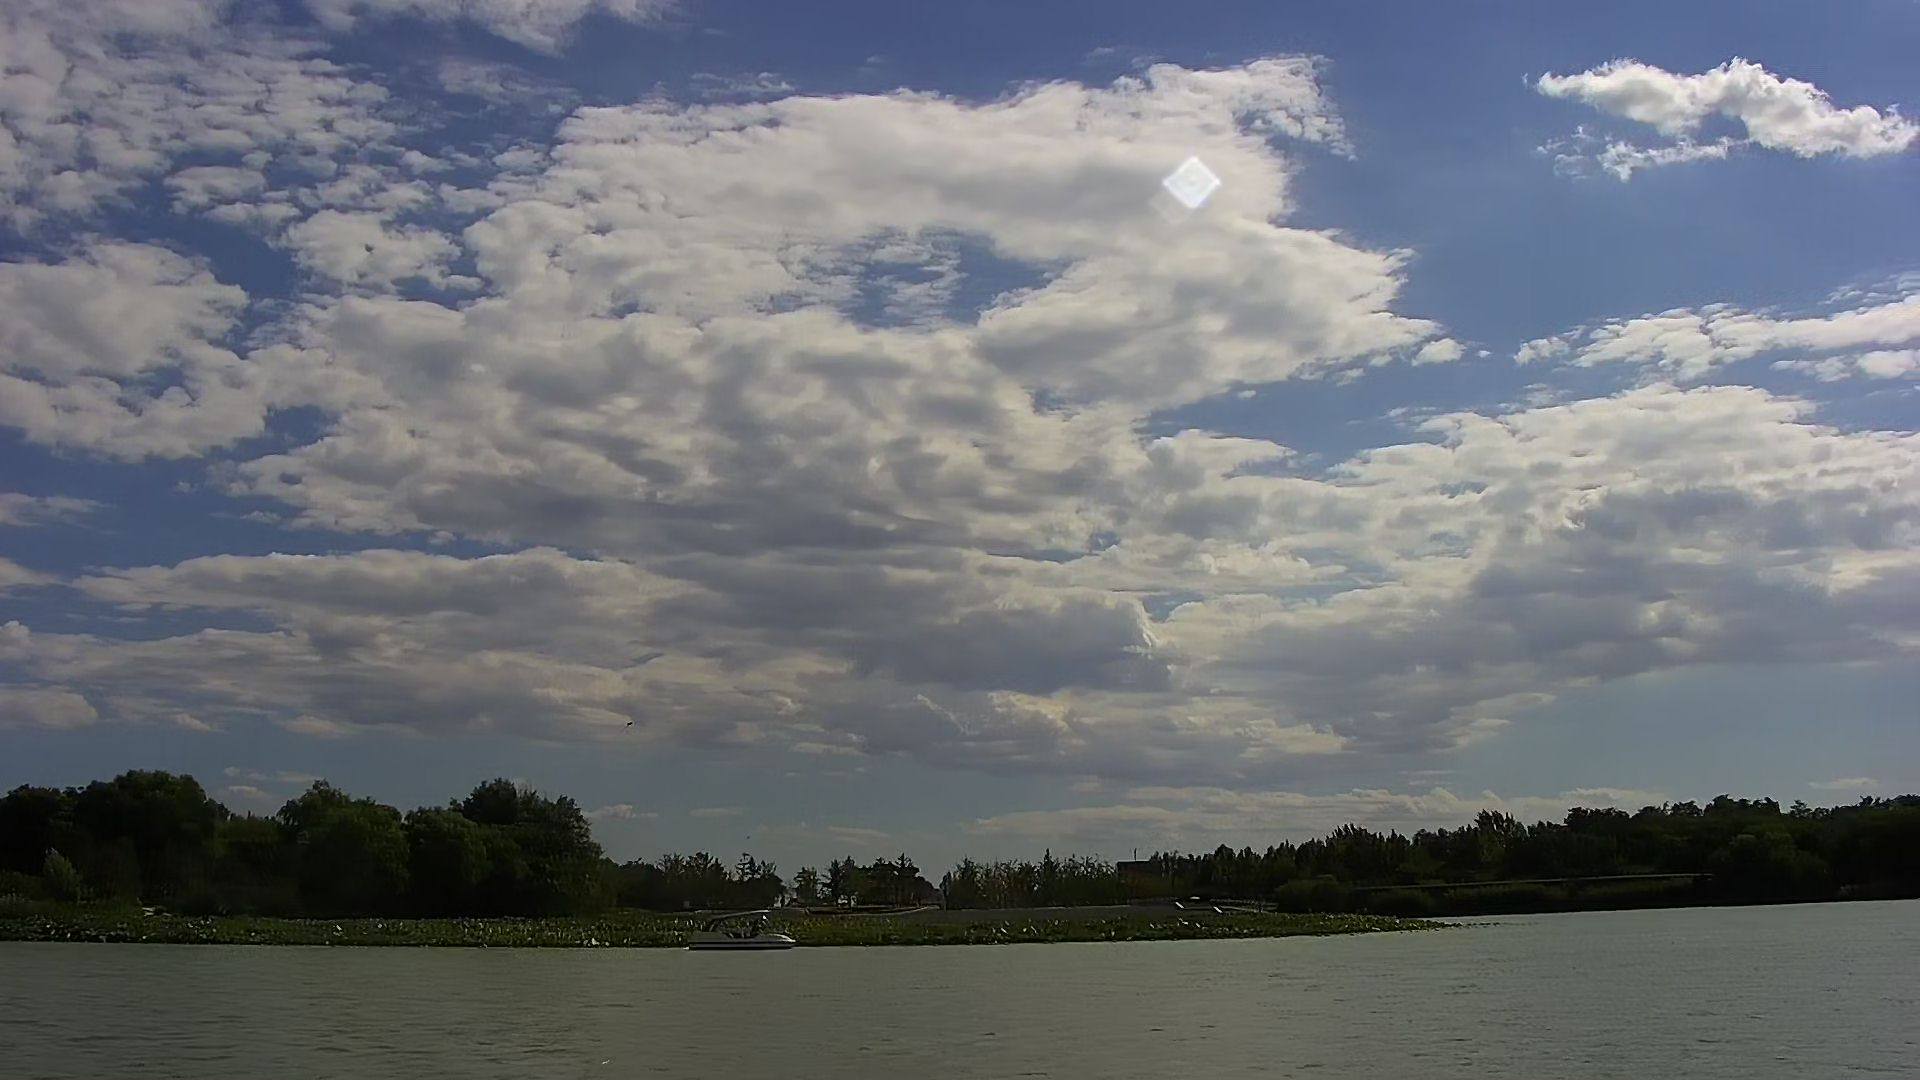boat: (688, 905, 807, 955)
